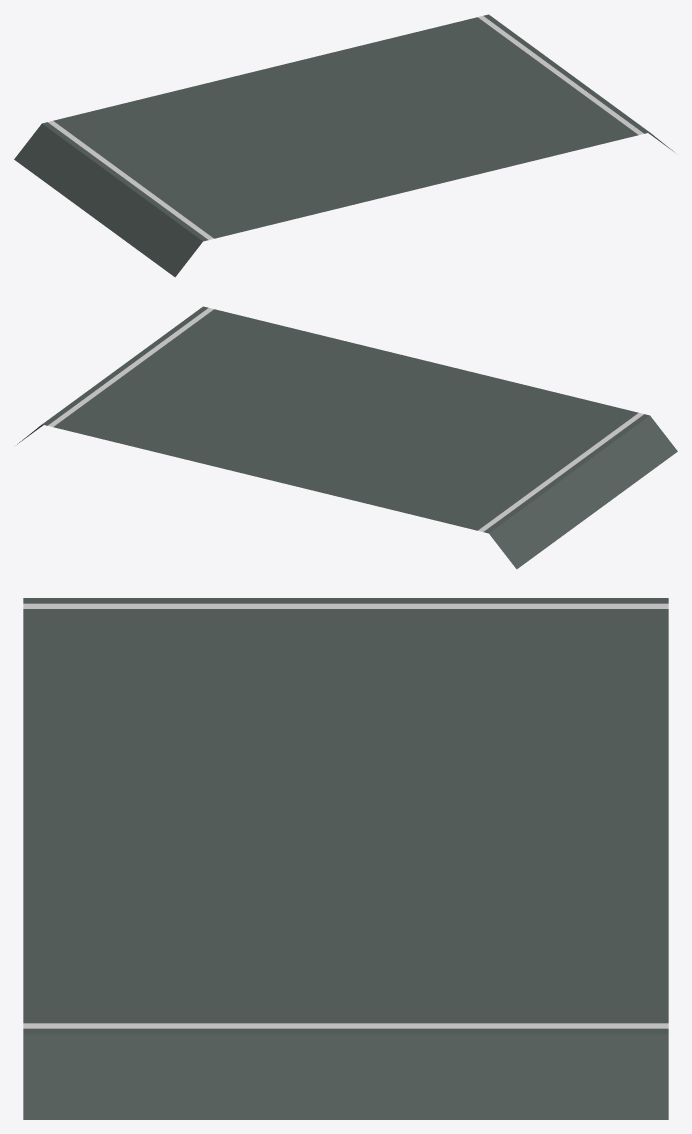
Rendered from Straight.fbx.
The picture shows the model from 3 angles, top to bottom: view 1: azimuth 30°, elevation 25°; view 2: azimuth 150°, elevation 25°; view 3: azimuth 270°, elevation 25°; orthographic projection. The views are drawn at different scales.
Parts seen in each view (by area): view 1: Plane; view 2: Plane; view 3: Plane.
Part boxes in pixels (x1,y1,x2,y2): Plane: (14, 14, 674, 277); Plane: (17, 306, 677, 569); Plane: (23, 598, 668, 1119).
Bounding box in the file's own units: 18 × 1 × 10.
